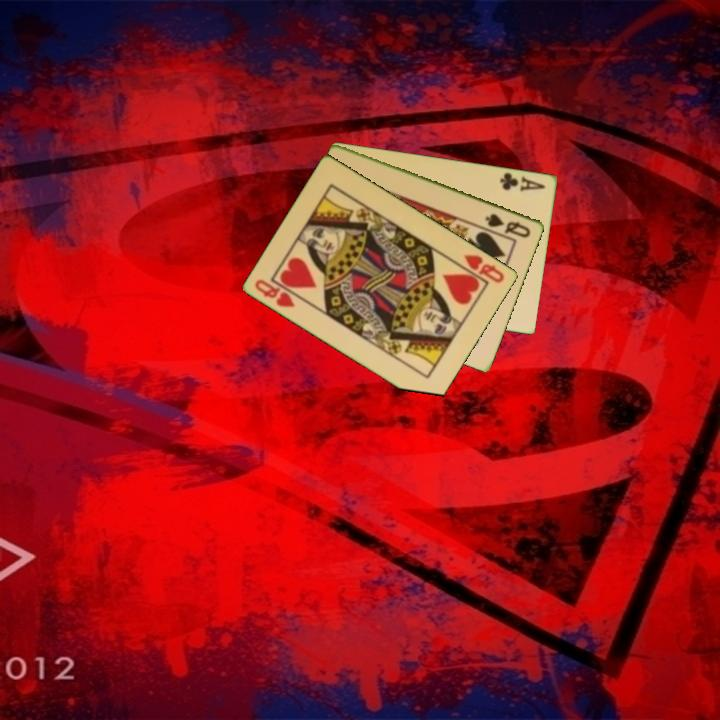Ac: (497, 169, 548, 194)
Qh: (460, 251, 507, 286), (252, 275, 298, 310)
Qs: (482, 210, 534, 241)
